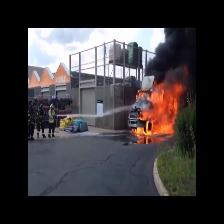fire: (143, 82, 182, 141)
smoke: (155, 28, 197, 82)
